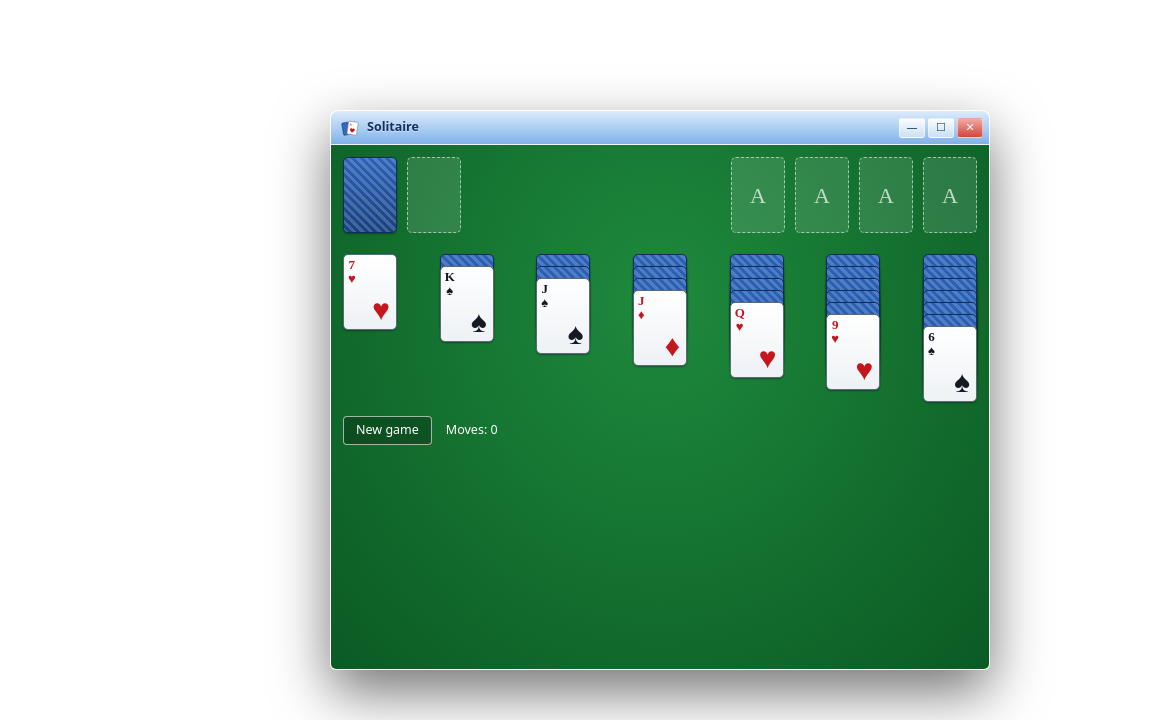
card games › Solitaire deals 7 columns, draws from the stock and starts a new game
Click the button with test id "solitaire-stock". click: (370, 195)
box: [343, 157, 397, 233]
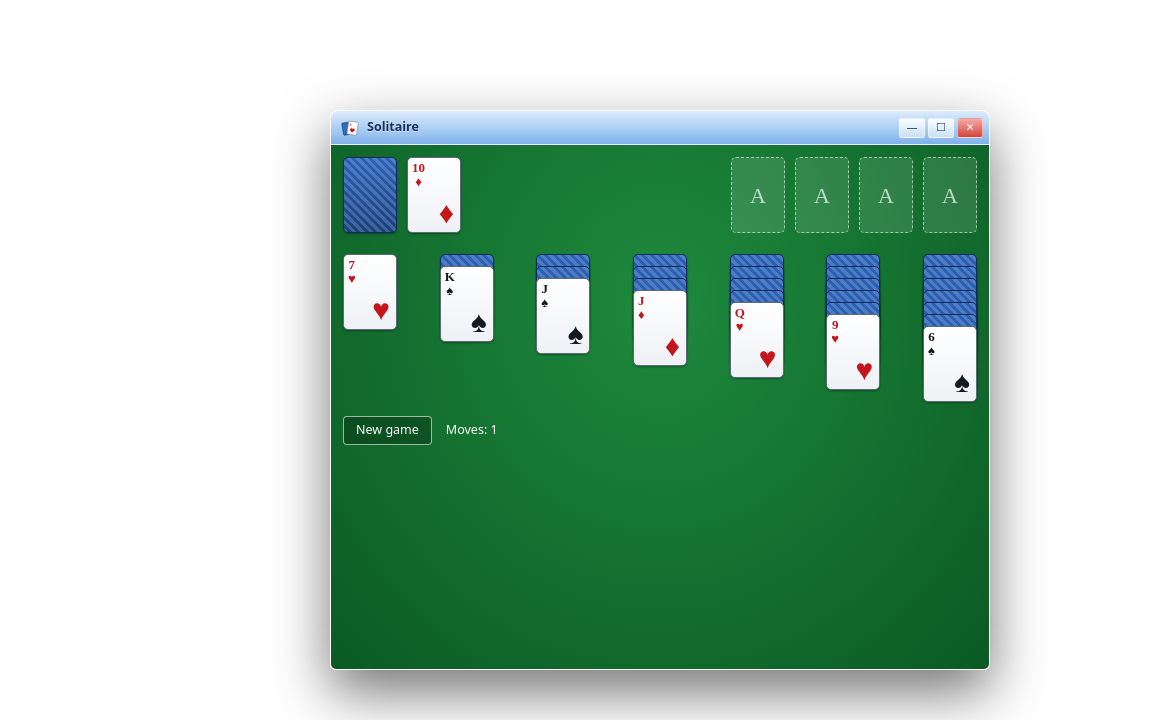
Now the button with test id "solitaire-waste" is shown, box [407, 157, 461, 233]
Now the text with test id "solitaire-moves" shows "1", box [490, 421, 498, 438]
Click the button with test id "solitaire-new". click: (387, 430)
box: [343, 416, 432, 445]
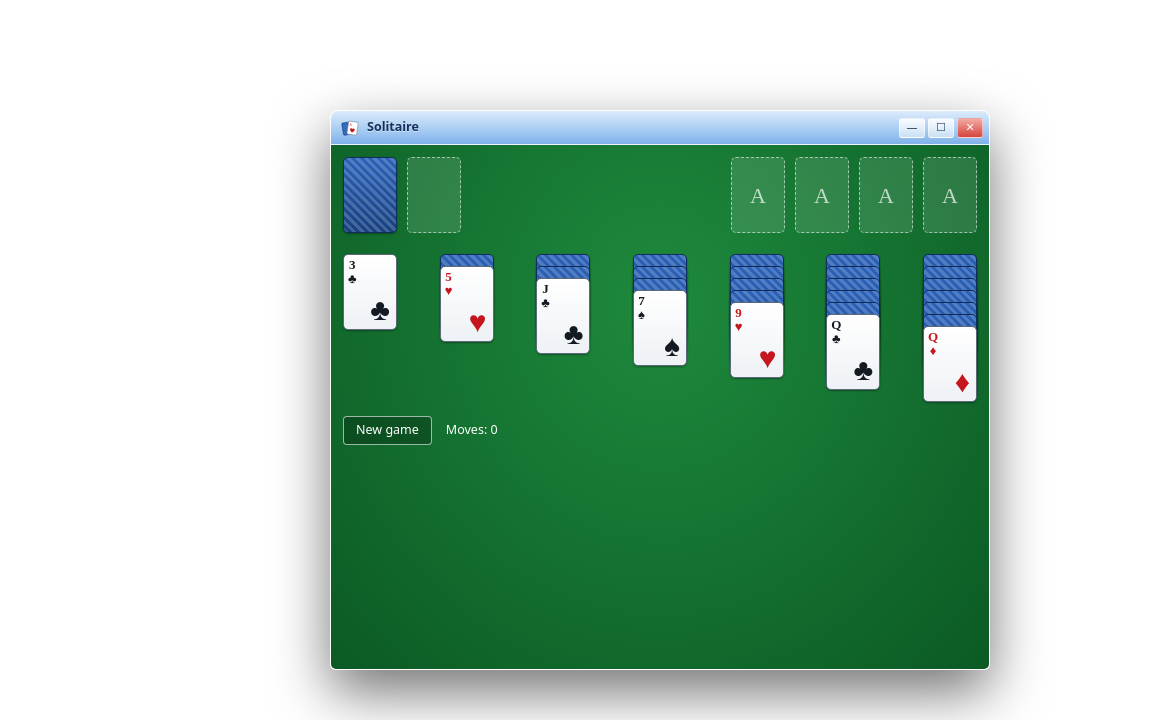
Now the text with test id "solitaire-moves" shows "0", box [490, 421, 498, 438]
